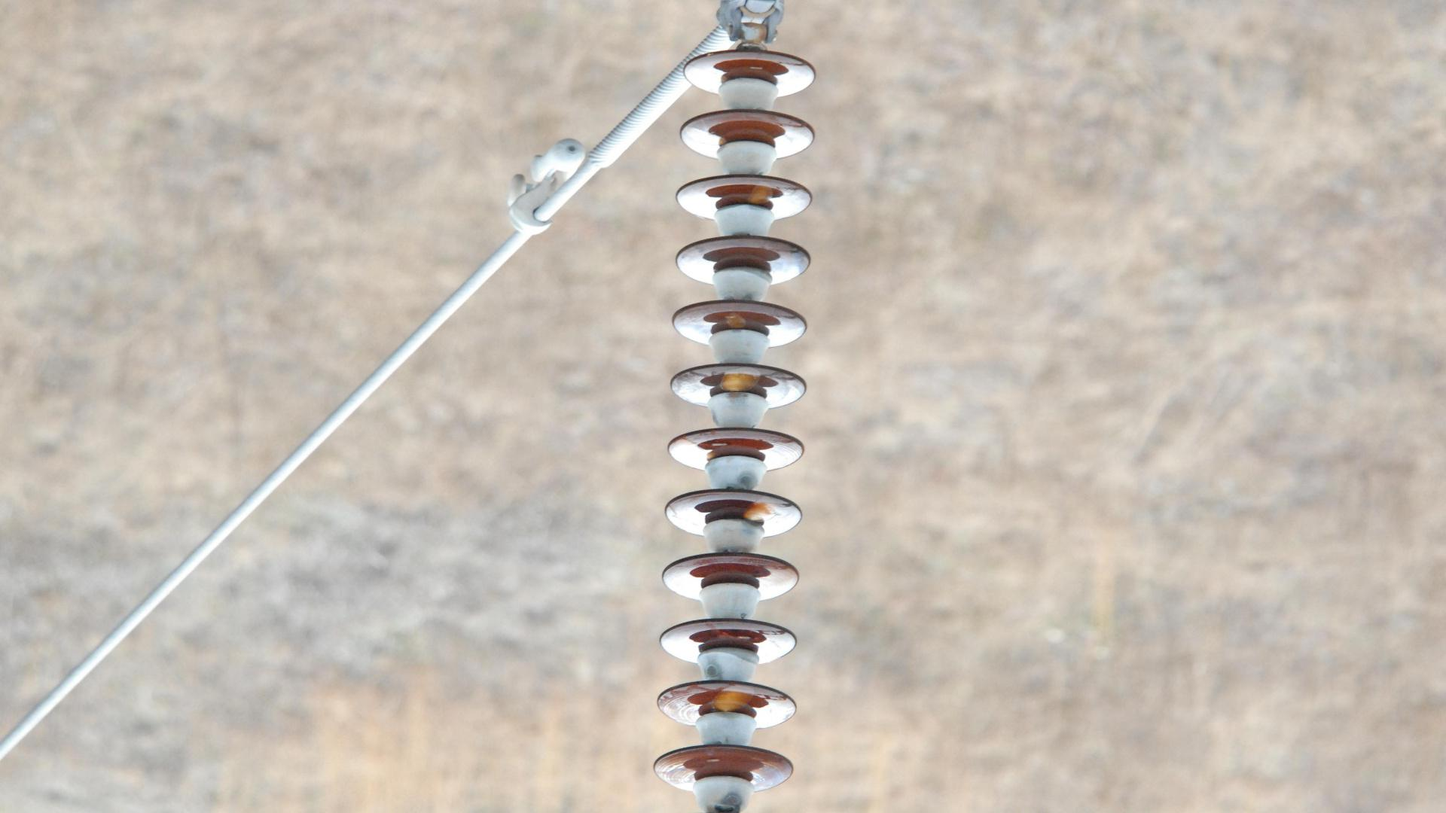insulator: (647, 44, 823, 813)
insulator_flashover: (712, 682, 757, 713), (718, 363, 761, 394), (742, 498, 779, 521), (747, 182, 775, 206), (721, 309, 749, 330)
